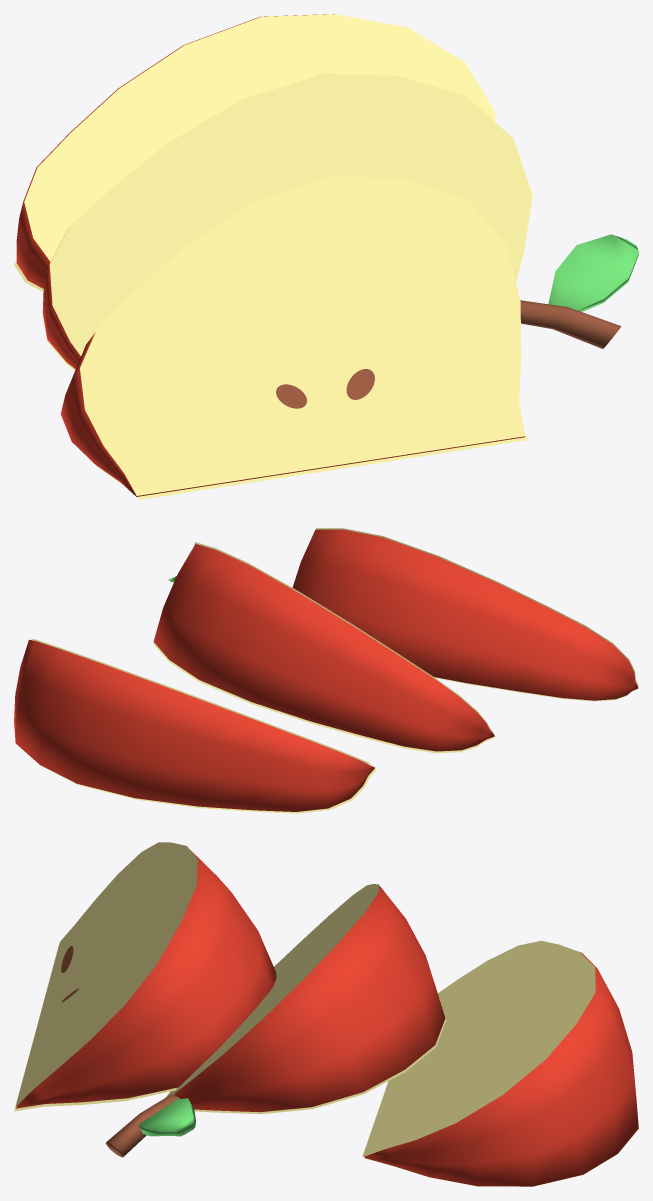
The model's file is manzana cortada.fbx.
3 renders of one model, top to bottom at view 1: azimuth 30°, elevation 25°; view 2: azimuth 150°, elevation 25°; view 3: azimuth 270°, elevation 25°, orthographic. The views are drawn at different scales.
Parts seen in each view (by area): view 1: Sphere.001, Sphere.003, Sphere.006, Sphere, Cube.001, Cylinder, Sphere.002; view 2: Sphere, Sphere.004, Sphere.005, Sphere.006, Sphere.001, Sphere.003; view 3: Sphere, Sphere.006, Sphere.001, Sphere.003, Cube.001, Cylinder, Sphere.004, Sphere.002.
Boxes of the visible parts, x1,y1,x2,y2 form: Sphere.001: [80, 176, 525, 495]; Sphere.003: [49, 73, 532, 355]; Sphere.006: [24, 14, 495, 261]; Sphere: [16, 14, 524, 496]; Cube.001: [548, 234, 638, 311]; Cylinder: [520, 300, 621, 348]; Sphere.002: [97, 433, 527, 499]; Sphere: [14, 529, 638, 811]; Sphere.004: [153, 643, 494, 753]; Sphere.005: [40, 765, 376, 813]; Sphere.006: [31, 639, 374, 765]; Sphere.001: [315, 528, 638, 686]; Sphere.003: [194, 542, 494, 733]; Sphere: [16, 850, 638, 1186]; Sphere.006: [362, 940, 595, 1156]; Sphere.001: [15, 842, 197, 1106]; Sphere.003: [166, 884, 379, 1097]; Cube.001: [138, 1098, 195, 1136]; Cylinder: [105, 1093, 179, 1157]; Sphere.004: [194, 997, 446, 1114]; Sphere.002: [14, 946, 177, 1111].
Size of the model in its own units: 109 by 38.21 by 110.
